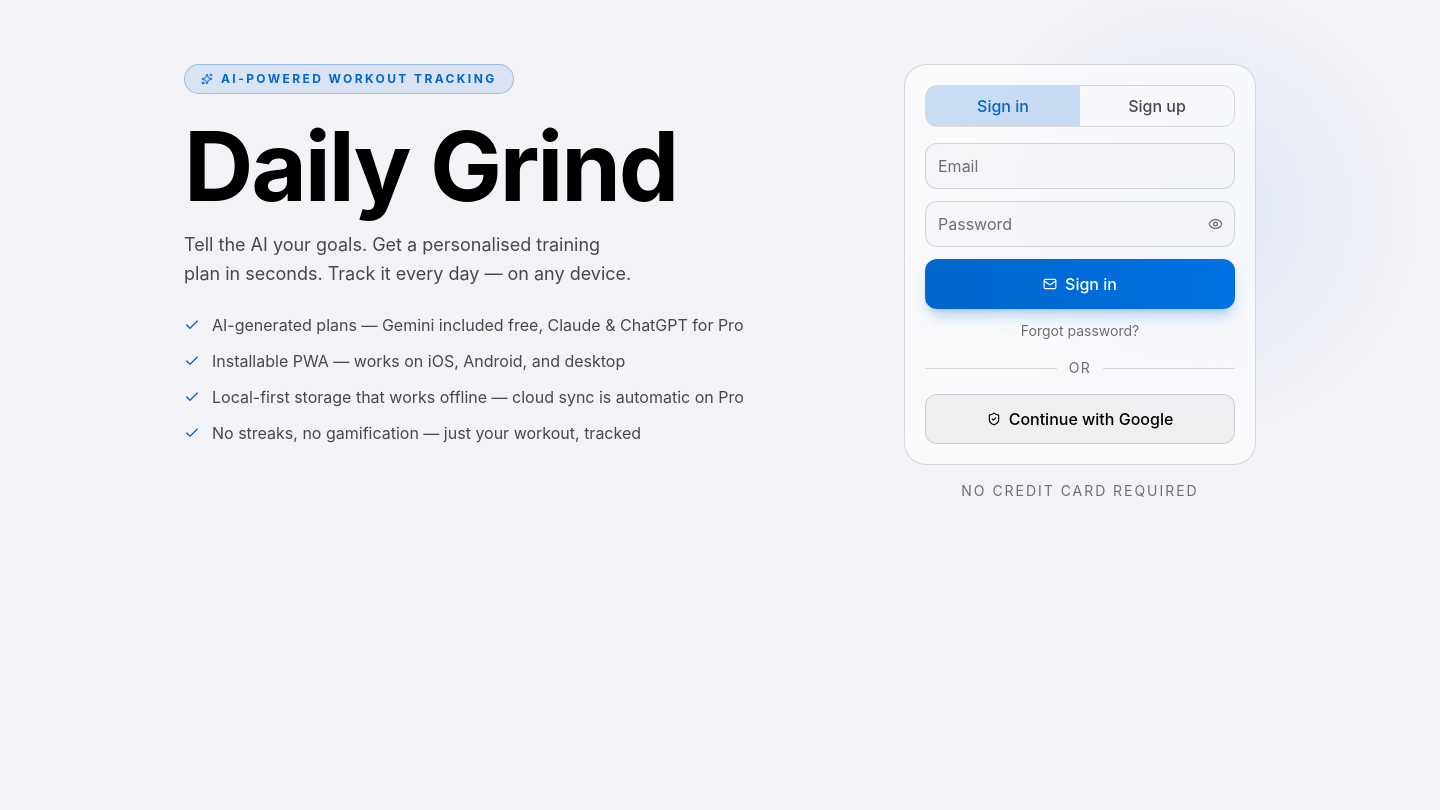
it: LandingPage › switches to sign-up mode when Sign up tab is clicked
Step 1. Click the button "Sign up" → [1157, 106], box [1080, 86, 1234, 126]
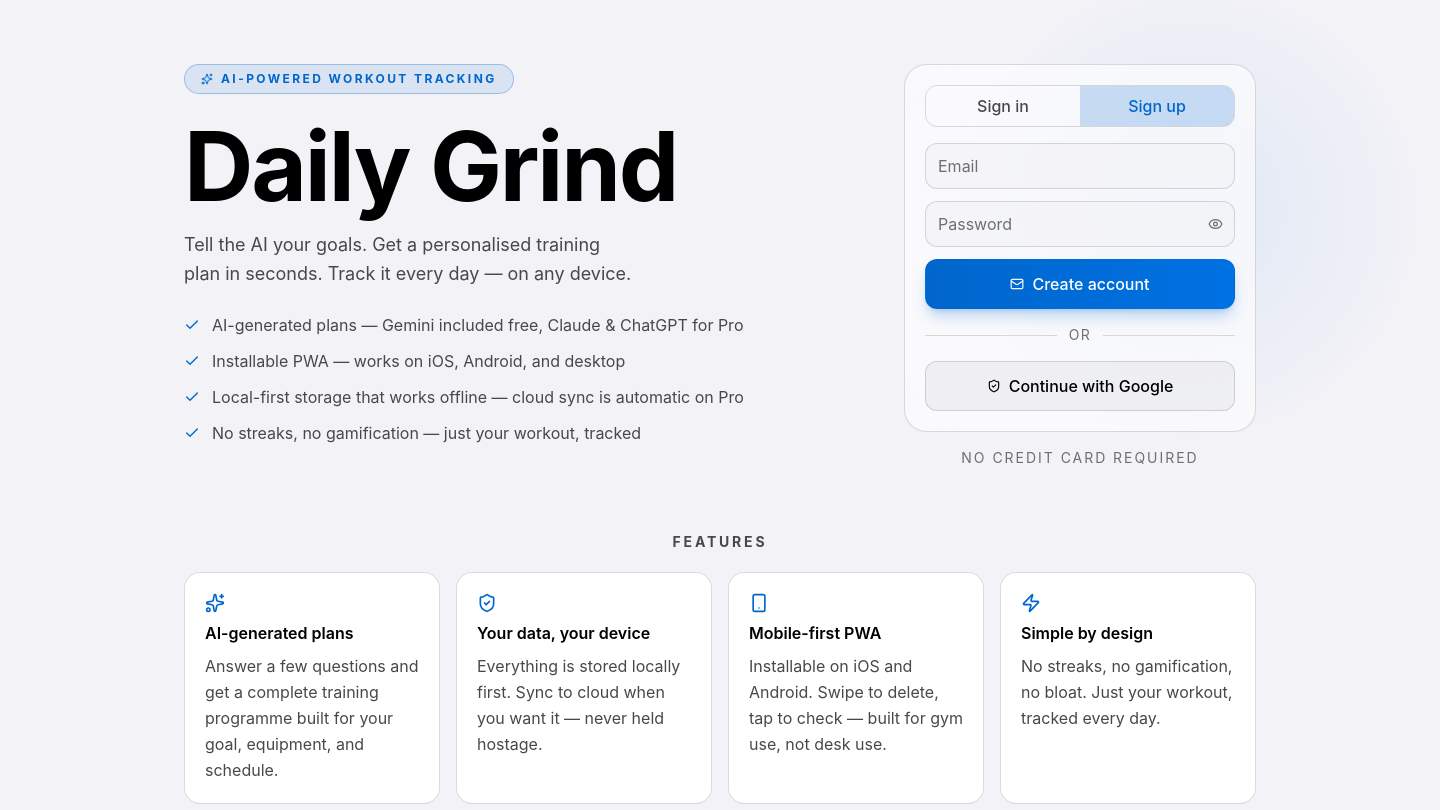
expect the button "Create account" is shown: met, box [925, 259, 1235, 309]
